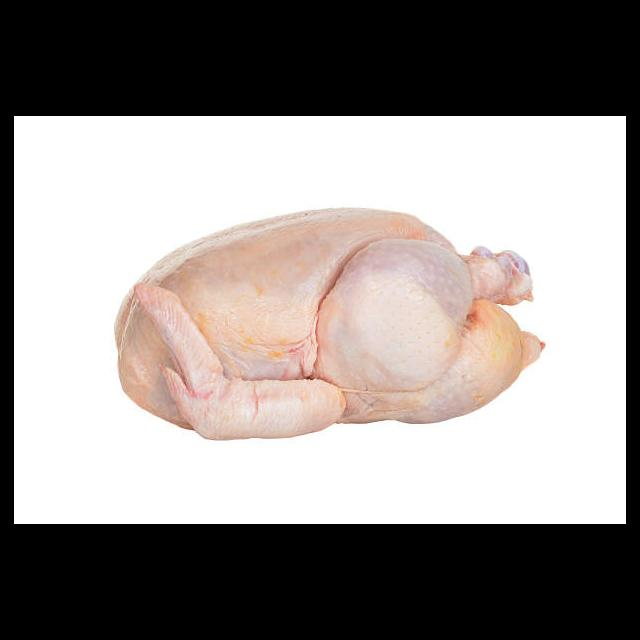chicken: (113, 208, 547, 439)
